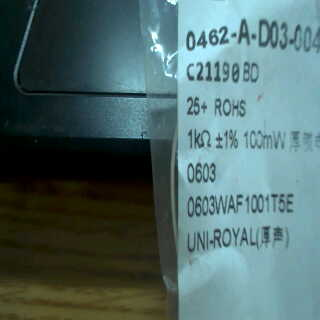1kR: (187, 125, 212, 152)
